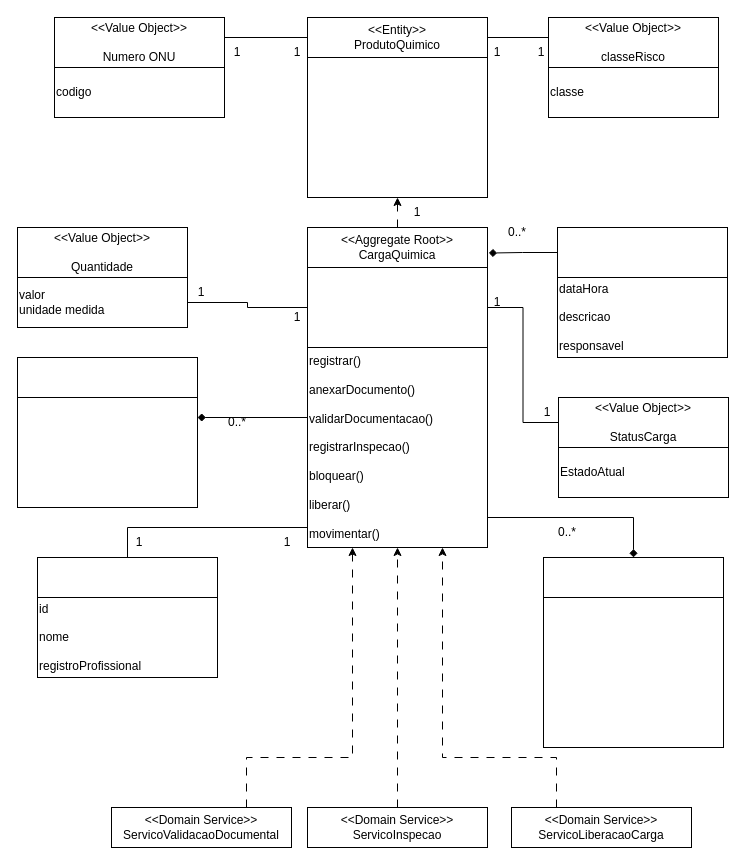
This 746x865 diagram has some shape labels left out. The shapes that lost their labels are listed below. From the top down, each one's centre as x and y in pixels, then its label:
point (397, 127): id nome numeroONU : numeroONU classeRisco : classeRisco status
point (642, 252): <<Value Object>> HistoricoEvento
point (397, 307): id quantidade : Quantidade status : StatusCarga
point (107, 377): <<Entity>> Documento
point (107, 452): id tipo dataValidade
point (127, 577): <<Entity>> ResponsavelTecnico
point (633, 577): <<Entity>> Inspecao
point (633, 672): id data resultado observacoes inspetor
